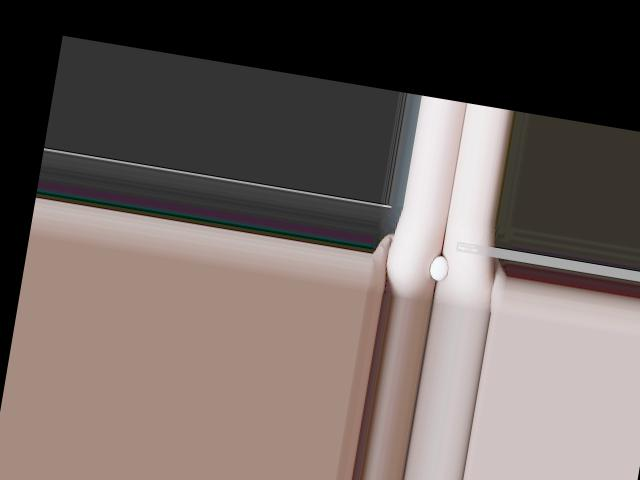egg: (428, 254, 450, 281)
